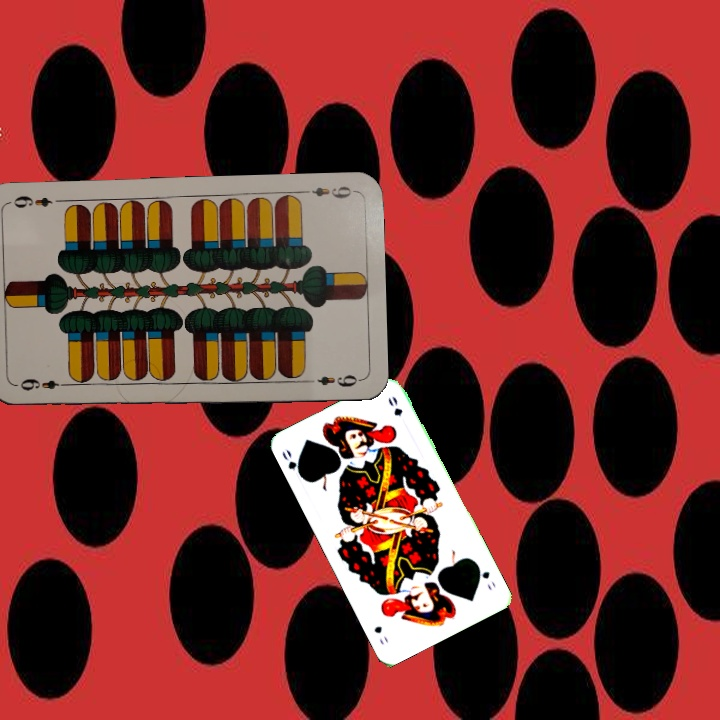E9: (298, 182, 357, 201), (13, 375, 72, 393)
GO: (278, 445, 306, 481), (472, 559, 498, 593)
